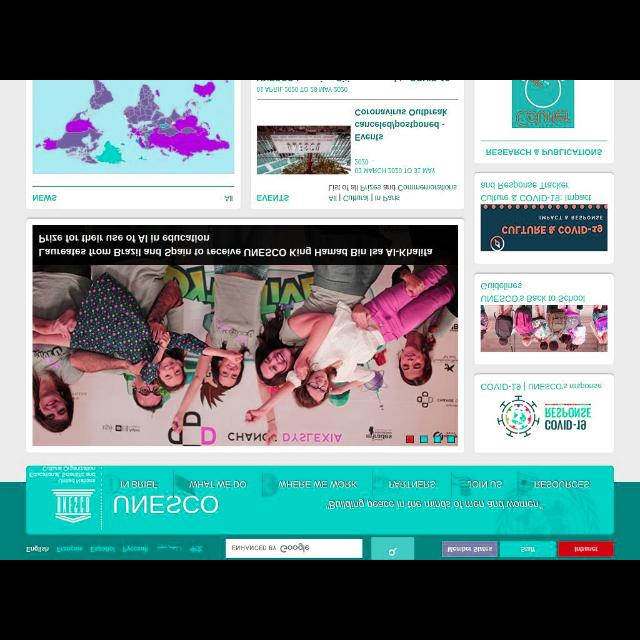backgroundimage: (33, 226, 459, 446), (31, 80, 235, 176), (480, 303, 608, 353), (479, 205, 608, 252), (256, 124, 352, 174), (512, 81, 574, 129)
button: (371, 538, 415, 560)
icon: (389, 543, 399, 555)
image: (491, 395, 541, 439), (49, 486, 97, 526)
input: (226, 538, 362, 558)
text: (37, 235, 435, 258), (355, 110, 451, 140), (481, 278, 587, 302), (480, 180, 594, 202), (112, 494, 218, 516), (326, 500, 544, 510), (478, 380, 604, 394), (354, 159, 436, 175), (30, 463, 99, 482), (486, 146, 604, 156), (544, 408, 592, 432), (278, 478, 358, 492), (326, 183, 458, 190), (533, 478, 589, 492), (255, 86, 348, 94), (188, 478, 246, 490), (232, 543, 310, 551), (386, 478, 436, 490), (120, 478, 158, 490), (253, 192, 290, 204), (464, 481, 504, 492), (448, 546, 492, 554), (56, 543, 84, 553), (90, 544, 118, 554), (122, 544, 150, 554), (572, 544, 600, 554), (157, 542, 183, 552), (32, 193, 58, 203), (344, 194, 372, 203), (25, 544, 49, 554), (378, 194, 400, 203), (189, 542, 205, 552), (328, 194, 338, 204), (522, 544, 534, 552), (224, 195, 233, 203)
textbutton: (444, 541, 498, 557), (501, 542, 555, 556), (558, 542, 612, 556)
